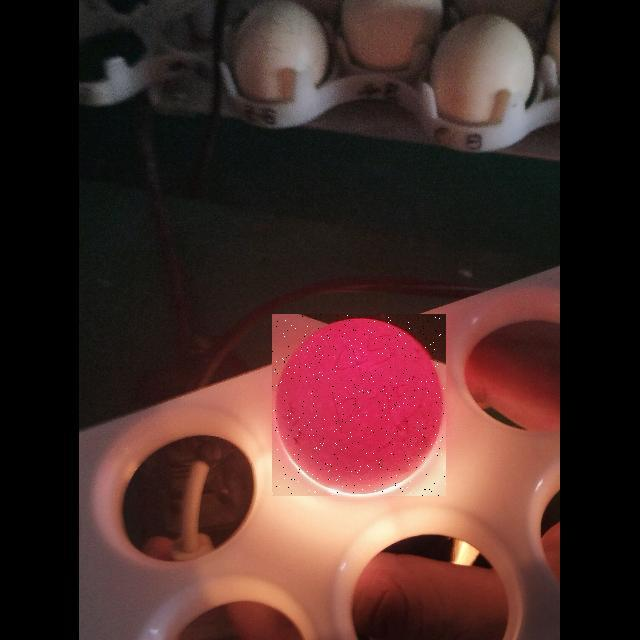Infertile: (272, 314, 446, 496)
